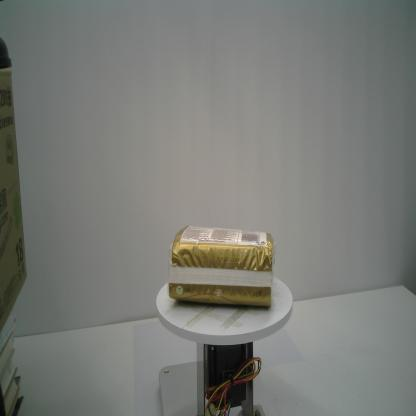Tissue: (167, 225, 276, 308)
